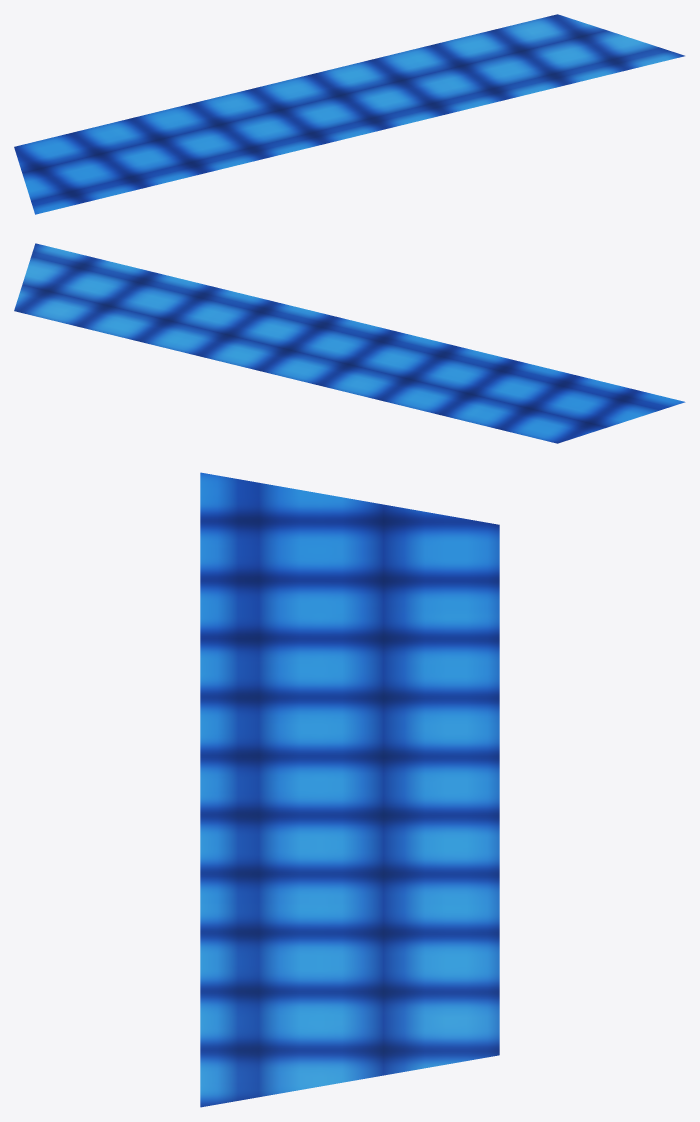
File: ARC0610033.fbx
The picture shows the model from 3 angles, top to bottom: view 1: azimuth 30°, elevation 25°; view 2: azimuth 150°, elevation 25°; view 3: azimuth 270°, elevation 25°; orthographic projection. The views are drawn at different scales.
Parts seen in each view (by area): view 1: smARC0610033; view 2: smARC0610033; view 3: smARC0610033.
Part boxes in pixels (left/top/right/bottom): smARC0610033: left=14, top=14, right=684, bottom=214; smARC0610033: left=14, top=243, right=685, bottom=443; smARC0610033: left=200, top=472, right=499, bottom=1107.
Bounding box in the file's own units: 4181 × 0.0014 × 833.
Materials: 1 (1 with a texture image).
